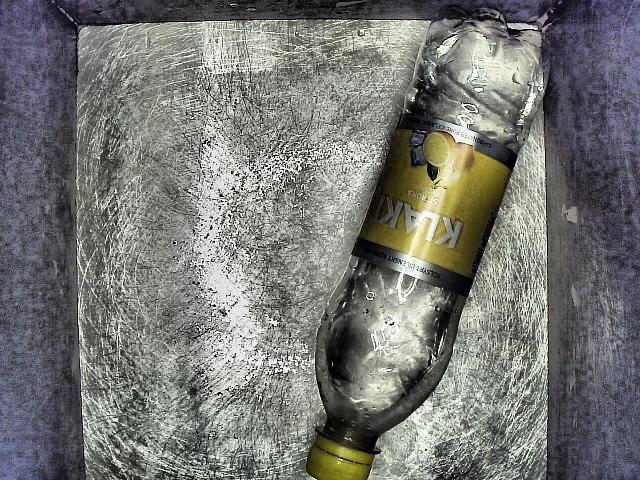Bottles: (277, 13, 558, 480)
